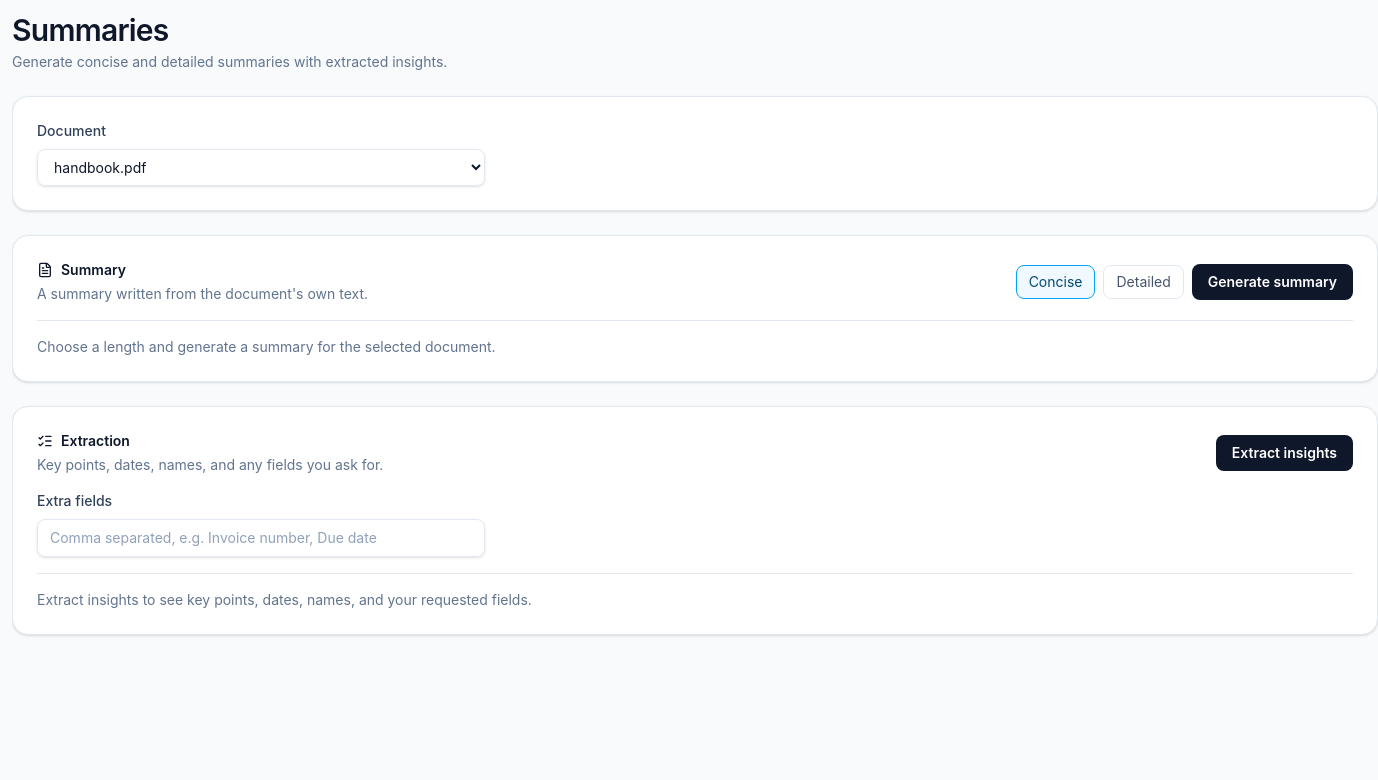
Test: SummariesPage › generates a concise summary for the selected document
Click the button "Generate summary".
click(1272, 282)  # box [1192, 264, 1353, 300]
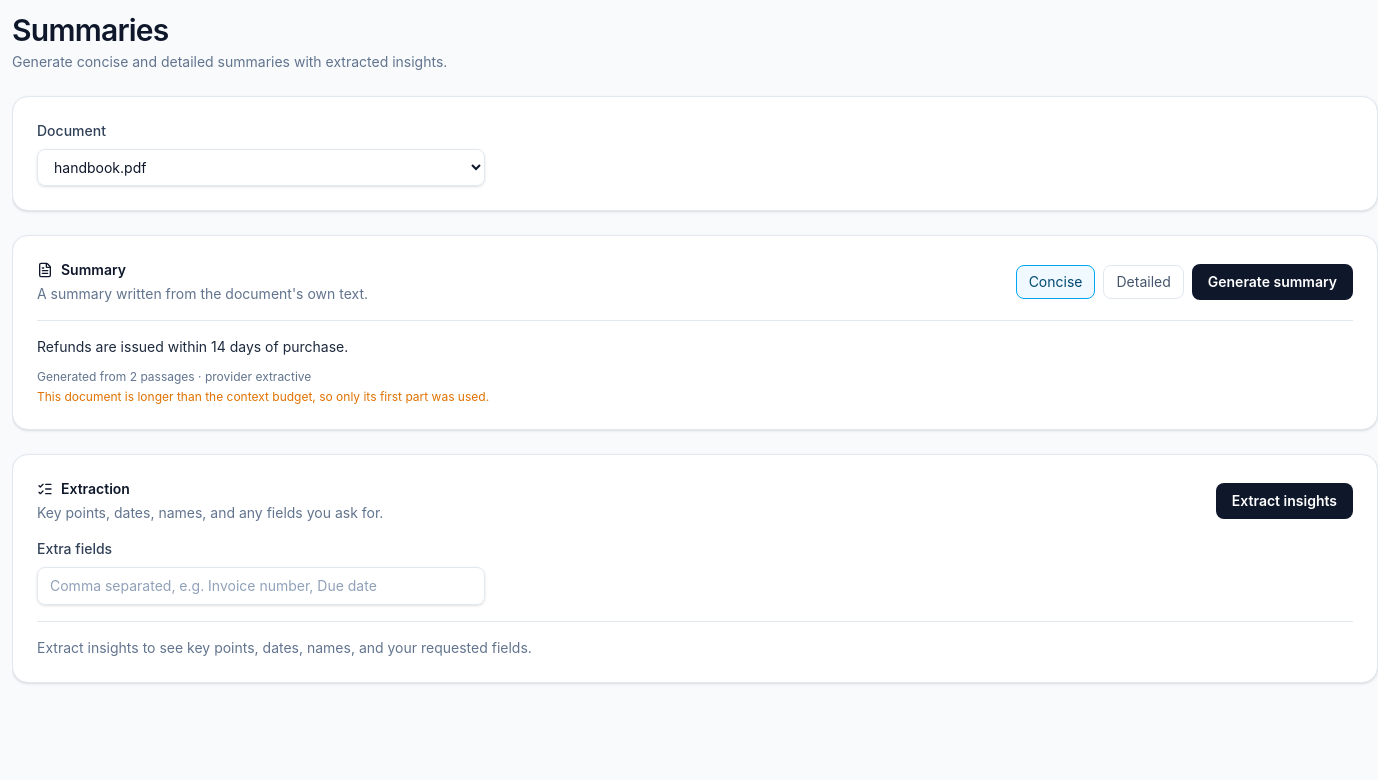
Expected: the text "Refunds are issued within 14 days of purchase." is shown, [37, 338, 348, 355]
Expected: the text "Generated from 2 passages · provider extractive" is shown, [37, 369, 311, 384]
Expected: the text "only its first" is shown, [37, 389, 489, 404]
